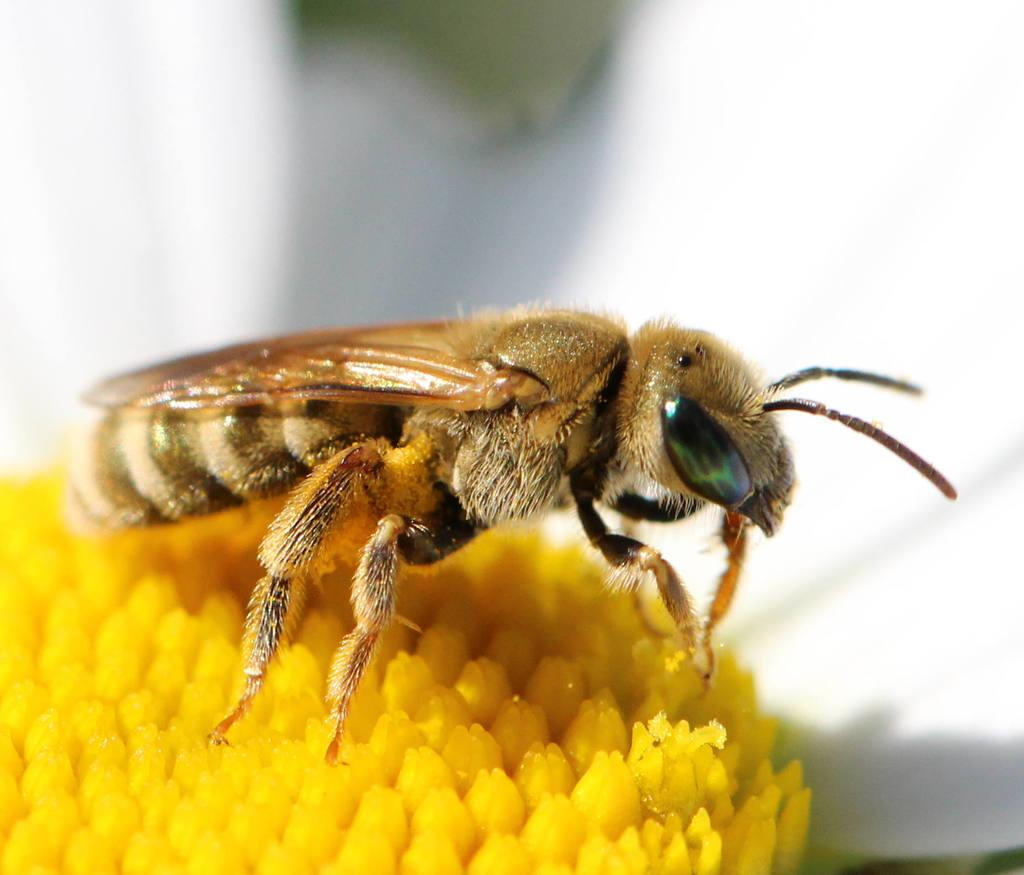Seladonia: (45, 296, 932, 661)
